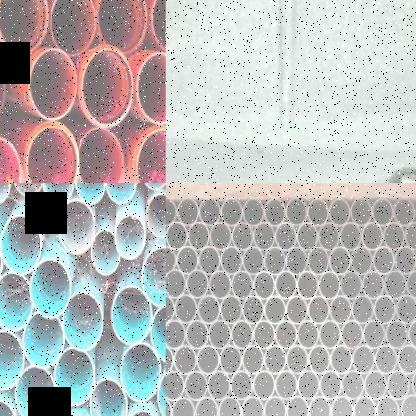pipe: (82, 48, 134, 126), (29, 49, 77, 121), (26, 121, 80, 183), (0, 0, 49, 56), (98, 0, 148, 54), (54, 346, 96, 407), (78, 128, 124, 183), (110, 285, 152, 345), (30, 258, 71, 319), (0, 214, 41, 275), (22, 311, 65, 369), (51, 0, 96, 55), (120, 342, 161, 402), (62, 291, 103, 351), (136, 52, 166, 124), (58, 199, 96, 254), (16, 365, 56, 416), (0, 271, 32, 331), (136, 128, 166, 183), (141, 246, 166, 308), (89, 377, 127, 416), (115, 213, 146, 260), (0, 330, 24, 390), (91, 230, 120, 275), (0, 138, 22, 183), (150, 303, 166, 363), (146, 193, 166, 238), (173, 344, 197, 376), (152, 0, 166, 54), (386, 370, 411, 400), (43, 183, 74, 207), (174, 294, 198, 325), (374, 344, 398, 375), (184, 370, 208, 401), (230, 370, 254, 401), (207, 370, 231, 401), (185, 320, 209, 350), (208, 320, 232, 350), (208, 270, 232, 300), (384, 270, 408, 300), (218, 345, 242, 375), (196, 345, 220, 375), (364, 370, 388, 400), (241, 345, 265, 375), (340, 320, 364, 350), (362, 320, 386, 350), (197, 295, 221, 325), (341, 370, 365, 400), (274, 320, 298, 350), (252, 370, 276, 400), (328, 246, 352, 276), (350, 246, 374, 276), (242, 295, 265, 326), (307, 295, 330, 326), (105, 183, 137, 205), (384, 320, 408, 349), (176, 246, 200, 275), (329, 346, 353, 375), (352, 345, 376, 374), (274, 222, 298, 251), (274, 271, 298, 300), (296, 320, 319, 350), (231, 320, 254, 350), (319, 370, 342, 400), (318, 320, 341, 350), (253, 320, 276, 350), (242, 246, 265, 276), (275, 370, 298, 400), (328, 198, 351, 228), (307, 246, 330, 276), (75, 183, 106, 205), (264, 295, 286, 326), (286, 295, 308, 326), (176, 198, 200, 226), (372, 296, 396, 324), (186, 270, 209, 299), (231, 222, 254, 251), (231, 271, 254, 300), (198, 246, 221, 275), (209, 221, 232, 250), (220, 246, 243, 275), (393, 198, 416, 227), (286, 346, 309, 375), (382, 221, 405, 250), (361, 222, 384, 251), (318, 271, 341, 300), (372, 246, 395, 275), (253, 222, 276, 251), (329, 296, 352, 325), (339, 222, 362, 251), (296, 222, 319, 251), (253, 271, 276, 300), (296, 271, 319, 300), (264, 198, 286, 228), (307, 198, 329, 228), (298, 370, 320, 400), (362, 270, 384, 300), (264, 246, 286, 276), (221, 199, 244, 227), (198, 199, 221, 227), (242, 199, 265, 227), (220, 296, 243, 324), (188, 221, 210, 250), (286, 198, 308, 227), (308, 346, 330, 375), (394, 246, 416, 275), (264, 346, 286, 375), (318, 222, 340, 251), (372, 198, 394, 227), (286, 247, 308, 276), (340, 271, 362, 300), (396, 344, 416, 375), (352, 296, 374, 324), (166, 221, 187, 250), (395, 295, 416, 324), (351, 198, 372, 227), (166, 320, 186, 350), (166, 269, 186, 299), (166, 370, 184, 402), (375, 395, 400, 416), (285, 395, 309, 416), (195, 395, 219, 416), (308, 395, 332, 416), (240, 395, 264, 416), (353, 395, 376, 416), (263, 395, 286, 416), (330, 395, 353, 416), (171, 396, 195, 416), (218, 395, 240, 416), (12, 183, 43, 197), (0, 53, 5, 124), (400, 394, 416, 416), (404, 221, 416, 250), (406, 270, 416, 299), (166, 198, 176, 226), (166, 246, 176, 274), (407, 320, 416, 349), (166, 295, 174, 324), (166, 344, 173, 376), (0, 183, 10, 205), (410, 368, 416, 398)
